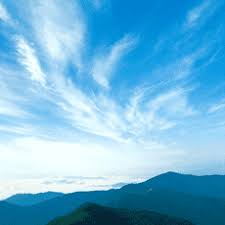mountain: (2, 174, 224, 225)
sky: (3, 2, 222, 173)
